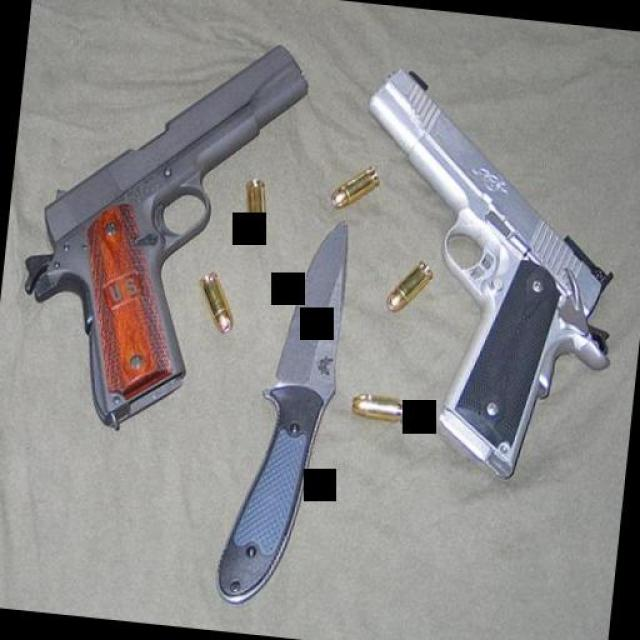gun: (325, 59, 636, 491), (8, 18, 312, 442)
